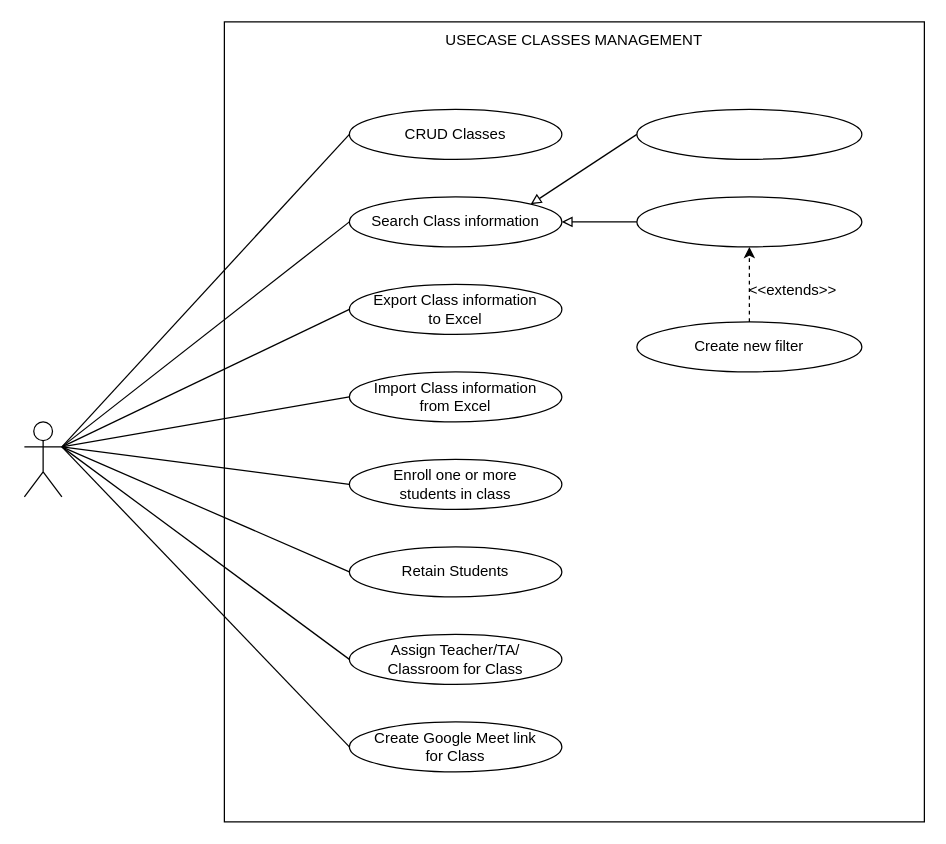
The diagram is 946 pixels wide and 844 high, and some of its shapes have lost their labels. Each missing label, with the centre of its shape:
"Admin" goes at point 42,459.
"Search for keywords using the search bar" goes at point 749,133.
"Search with filter" goes at point 749,221.
